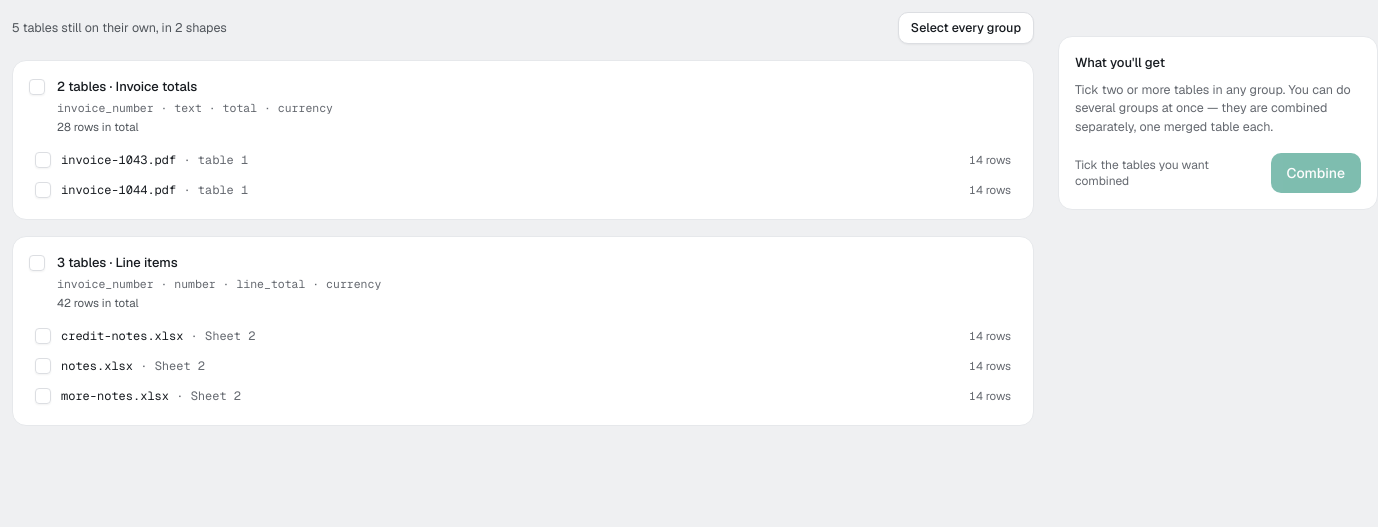
Test: MergePicker › counts what the batch will hold afterwards
This screenshot has width=1378, height=527.
Click the checkbox named "Select all 2 tables with the Invoice totals shape" at (37, 87), box [29,79,45,95]
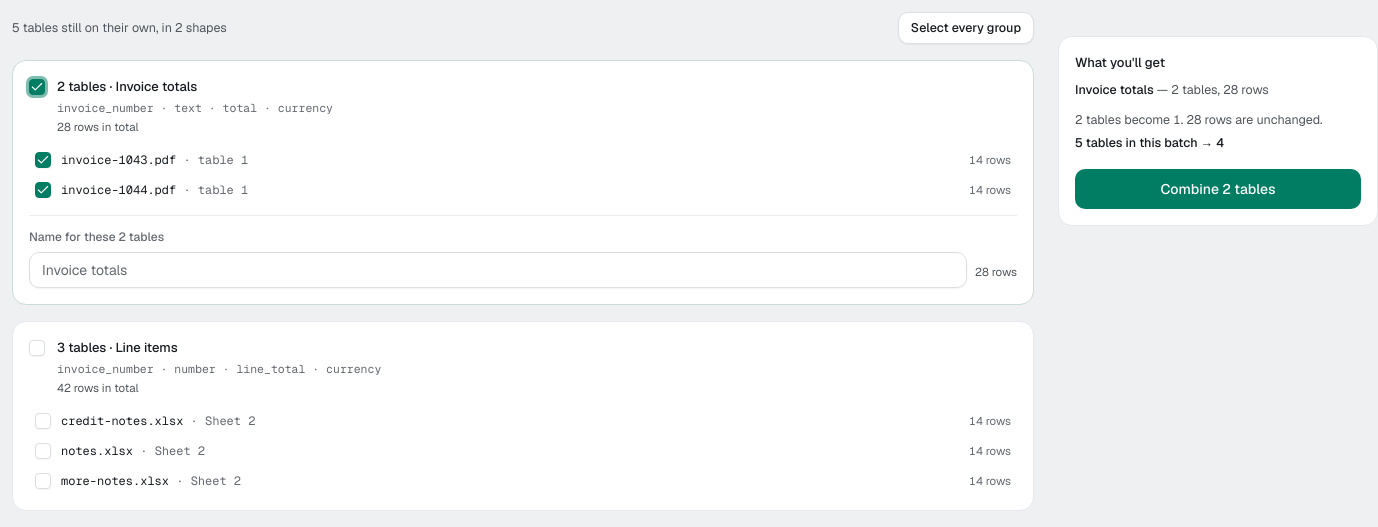
Check: the text "5 tables in this batch → 4" is shown, box [1075,134,1224,151]
